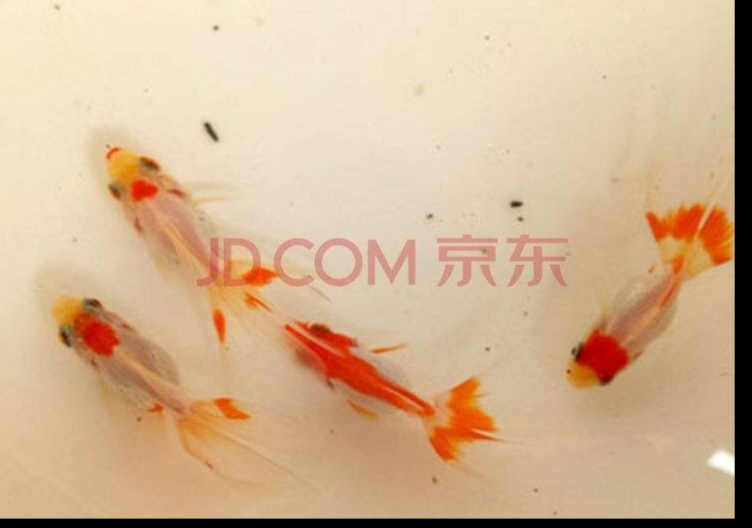fry: (521, 192, 733, 422), (242, 258, 482, 453), (40, 291, 277, 480), (76, 129, 283, 324)
